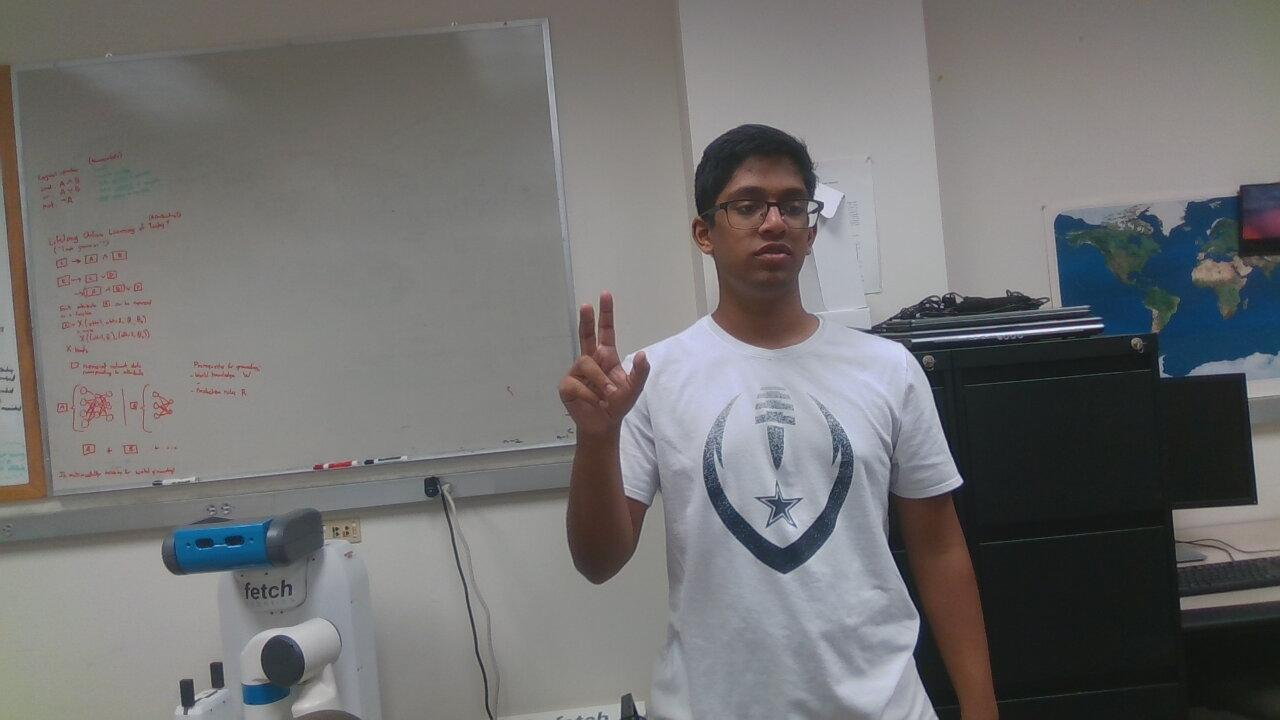peace: (538, 284, 668, 433)
